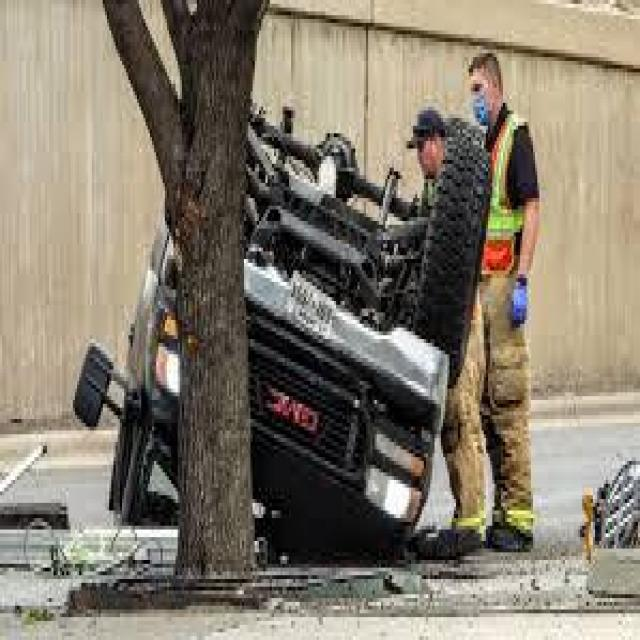accident: (103, 70, 490, 562)
